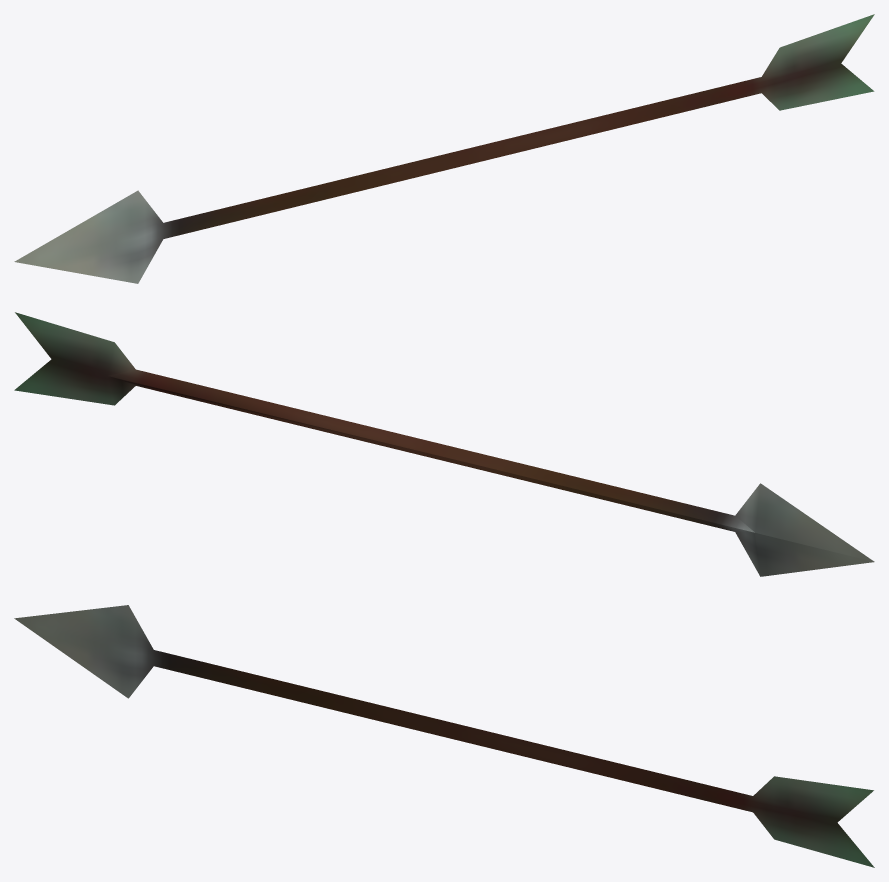
File: standardArrowR.glb
The picture shows the model from 3 angles, top to bottom: view 1: azimuth 30°, elevation 25°; view 2: azimuth 150°, elevation 25°; view 3: azimuth 330°, elevation 25°; orthographic projection.
Parts seen in each view (by area): view 1: standardArrowR; view 2: standardArrowR; view 3: standardArrowR.
Boxes of the visible parts, x1,y1,x2,y2 form: standardArrowR: [14, 14, 874, 283]; standardArrowR: [14, 312, 874, 576]; standardArrowR: [14, 605, 874, 867].
Size of the model in its own units: 1.06 by 0.1099 by 0.0105.
1 material, 1 textured.
